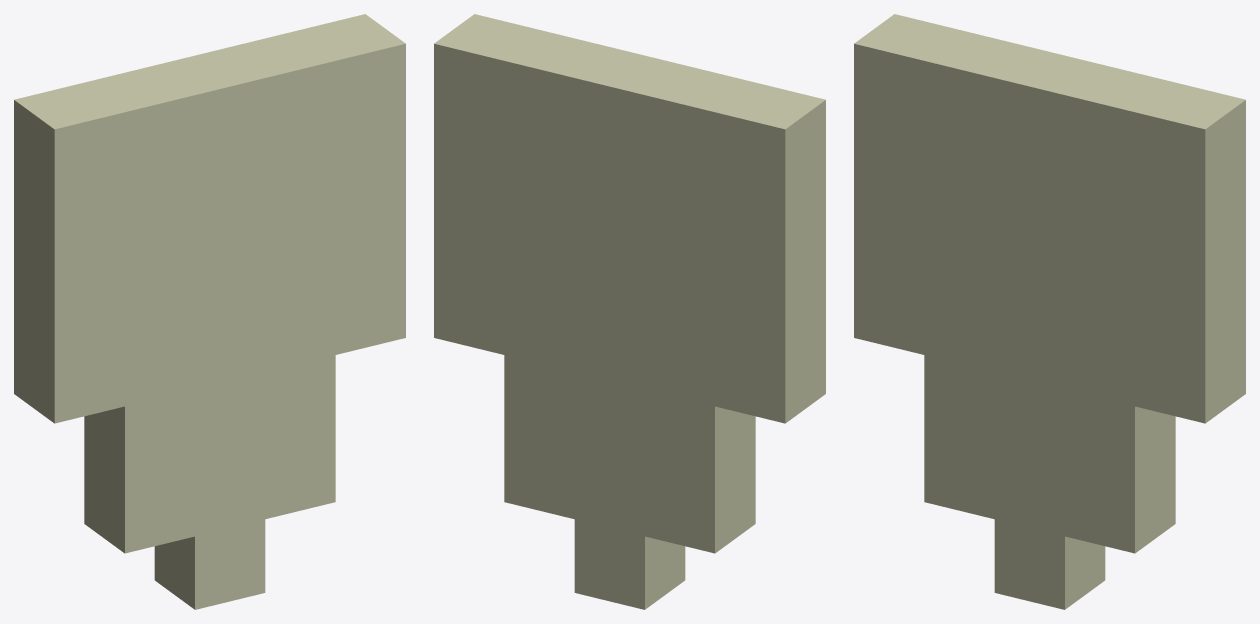
The model's file is Shield-Small-Tan.vox.obj.
The picture shows the model from 3 angles, left to right: view 1: azimuth 30°, elevation 25°; view 2: azimuth 150°, elevation 25°; view 3: azimuth 330°, elevation 25°; orthographic projection.
Bounding box in the file's own units: 0.5 × 0.7 × 0.1.
Materials: 1 (1 with a texture image).
